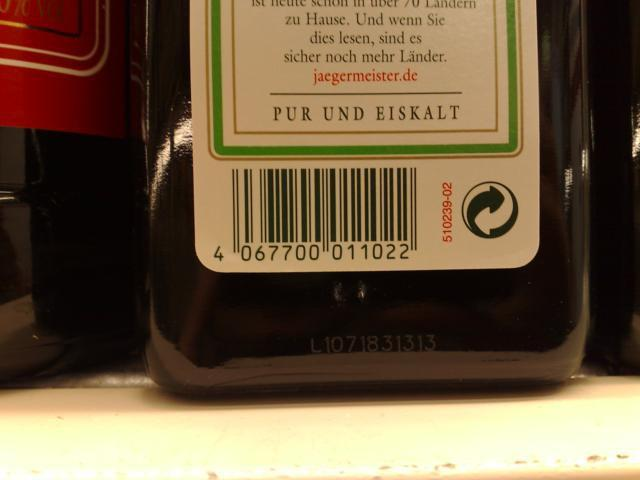Barcode: (206, 162, 433, 277)
